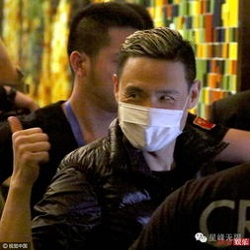mask: (114, 97, 185, 154)
